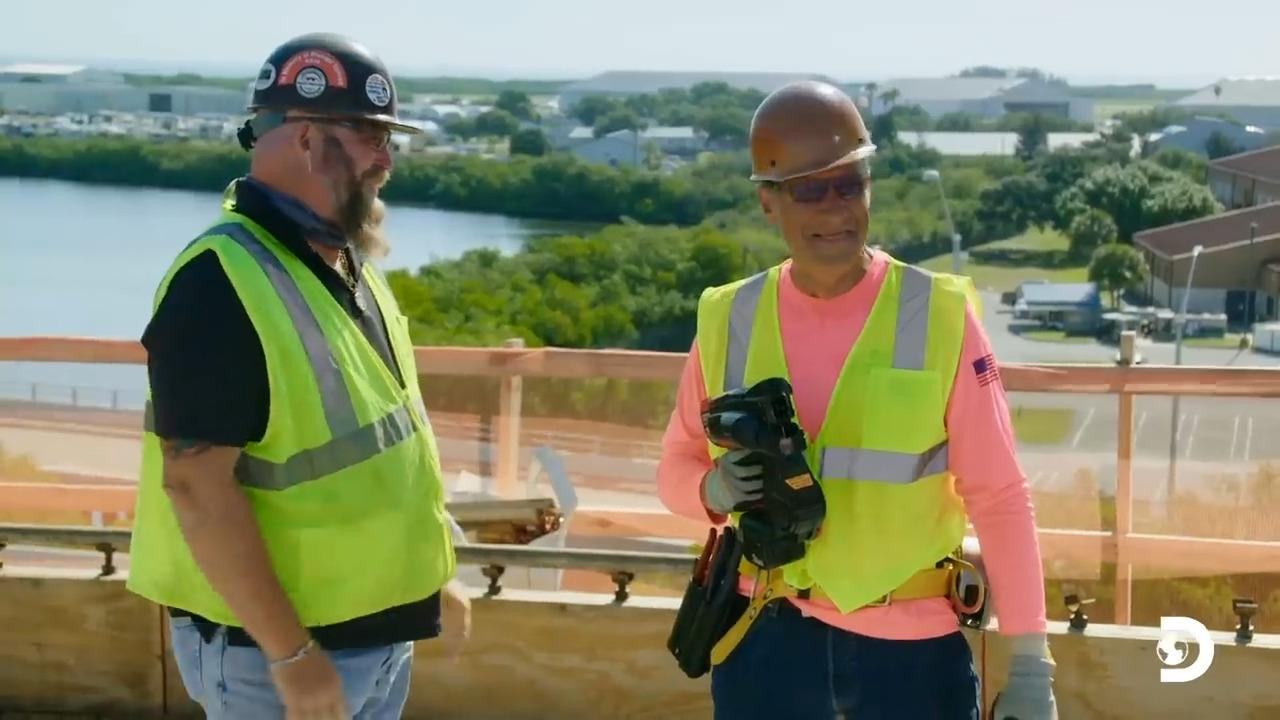Gloves: (984, 654, 1068, 720), (688, 448, 762, 522)
Helmet: (245, 31, 423, 136), (747, 80, 877, 183)
Person: (655, 79, 1059, 719), (125, 30, 466, 719)
Safety Vest: (158, 266, 418, 632), (720, 308, 962, 598)
bare-arms: (266, 630, 368, 716)
